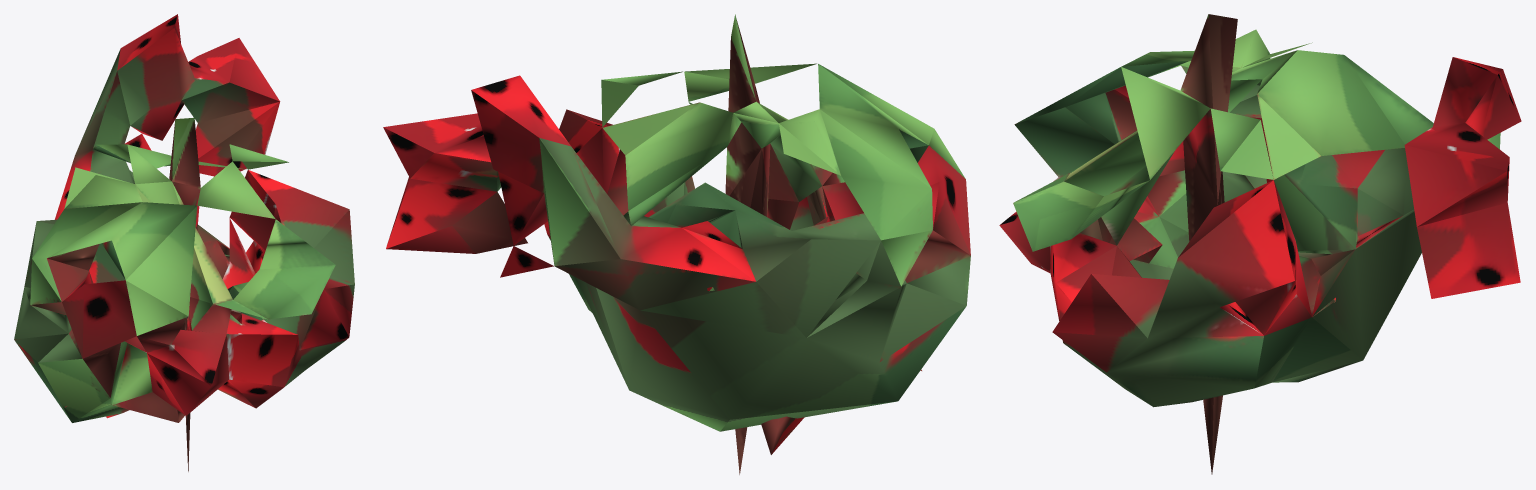
Rendered from berry-bush.glb.
The picture shows the model from 3 angles, left to right: view 1: azimuth 30°, elevation 25°; view 2: azimuth 150°, elevation 25°; view 3: azimuth 270°, elevation 25°; orthographic projection. The views are drawn at different scales.
Visible parts, largest first — view 1: geometry_0; view 2: geometry_0; view 3: geometry_0.
Boxes of the visible parts, x1,y1,x2,y2 form: geometry_0: [14, 14, 354, 471]; geometry_0: [383, 14, 970, 474]; geometry_0: [999, 14, 1521, 474].
Bounding box in the file's own units: 0.9065 × 0.9349 × 0.9437.
Materials: 1 (1 with a texture image).
